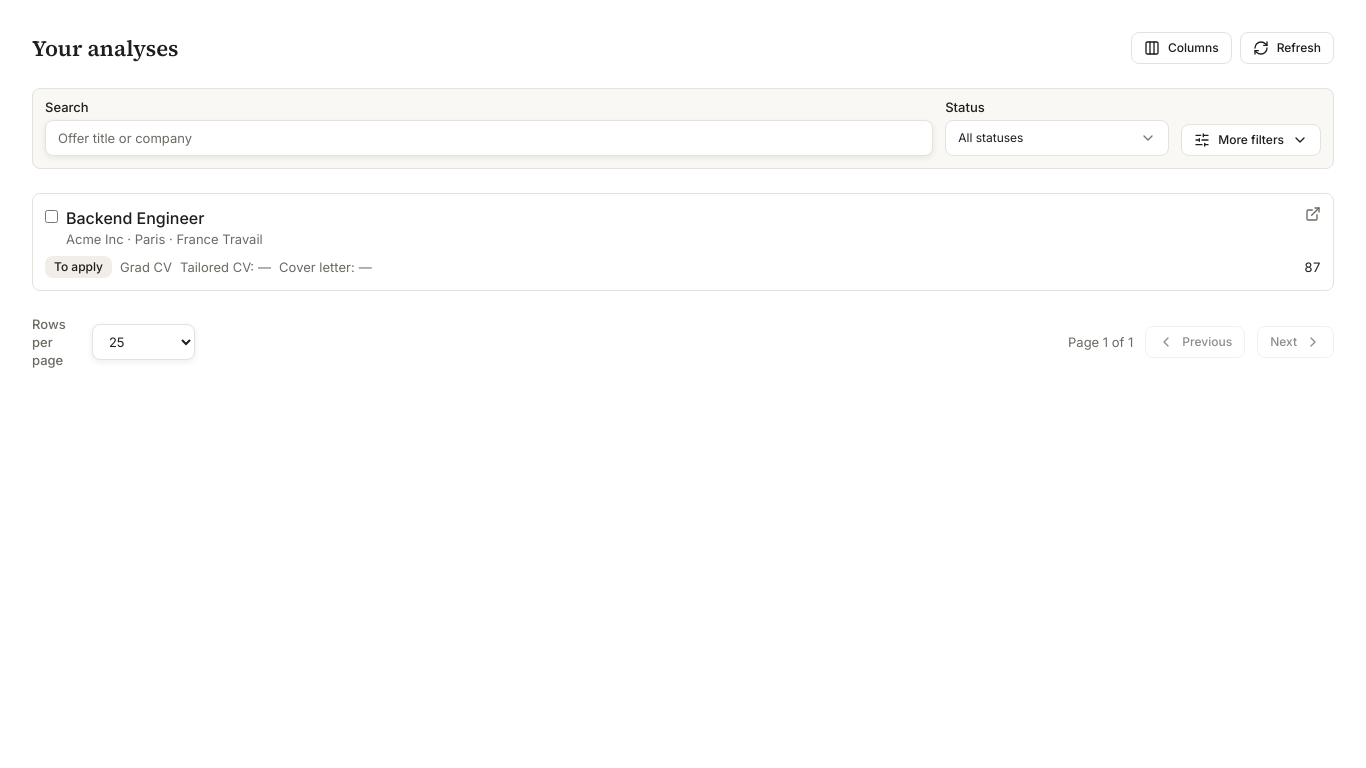
Test: AnalysesDashboardPage › replaces the table with a stacked card per Analysis below ~640px, keeping the same click/select/link behavior (issue #69)
Expected: the text "Acme Inc" is shown, x1=66 y1=231 x2=124 y2=247
Expected: the text "Paris" is shown, x1=135 y1=231 x2=165 y2=247
Same click behavior as a table row: opens the Quick view.
Click the text "Backend Engineer" at (135, 218), box x1=66 y1=208 x2=204 y2=228
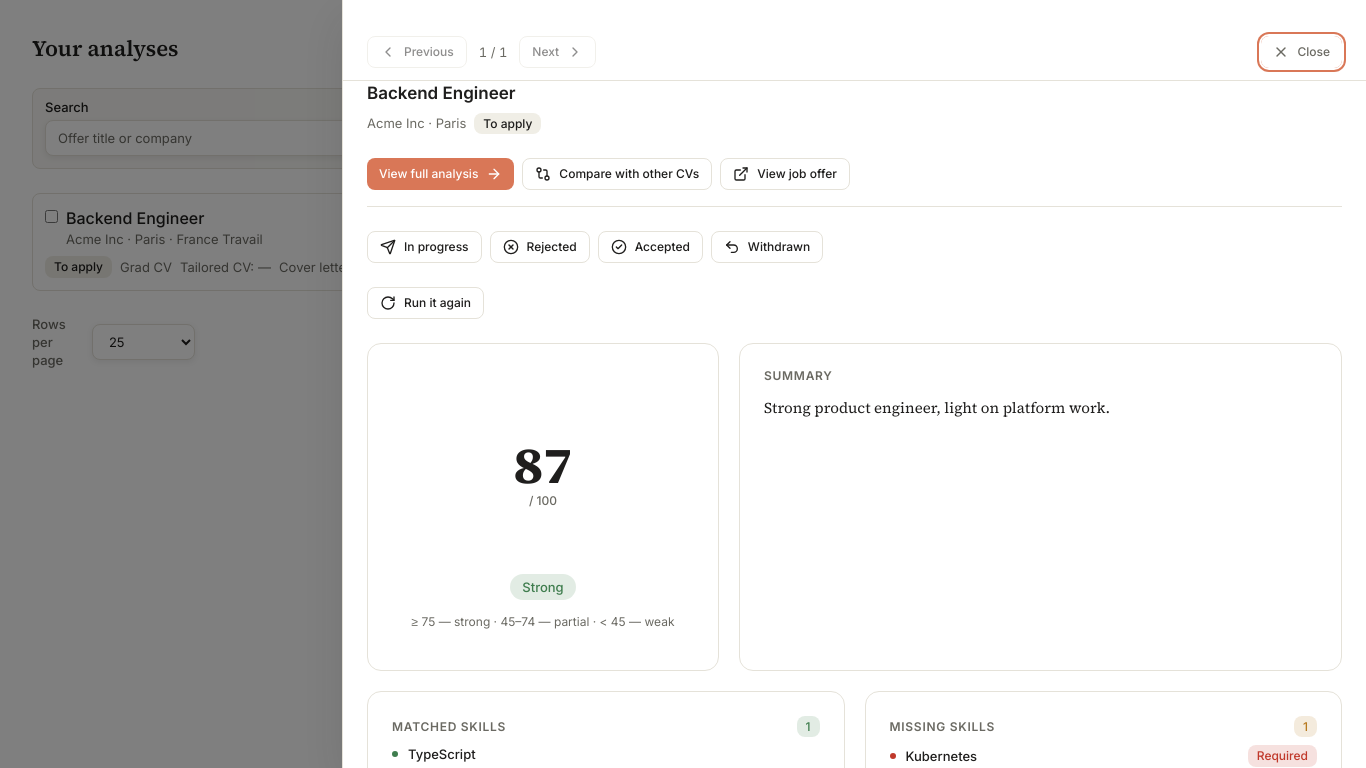
Now the dialog is shown
Press Escape
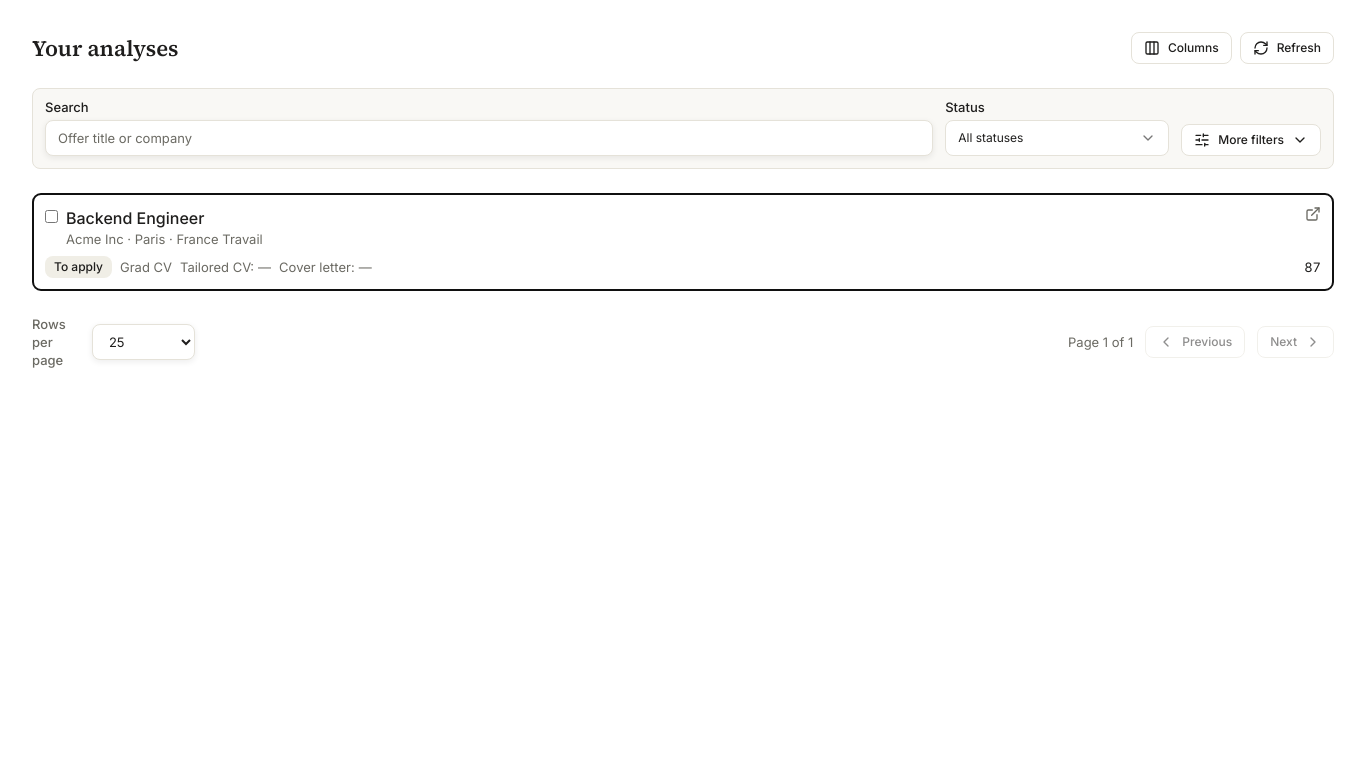
Now the dialog is gone
Same Lien behavior: opens the offer without the Quick view.
Click the link named "Open the job offer" at (1313, 214), box x1=1305 y1=206 x2=1321 y2=222
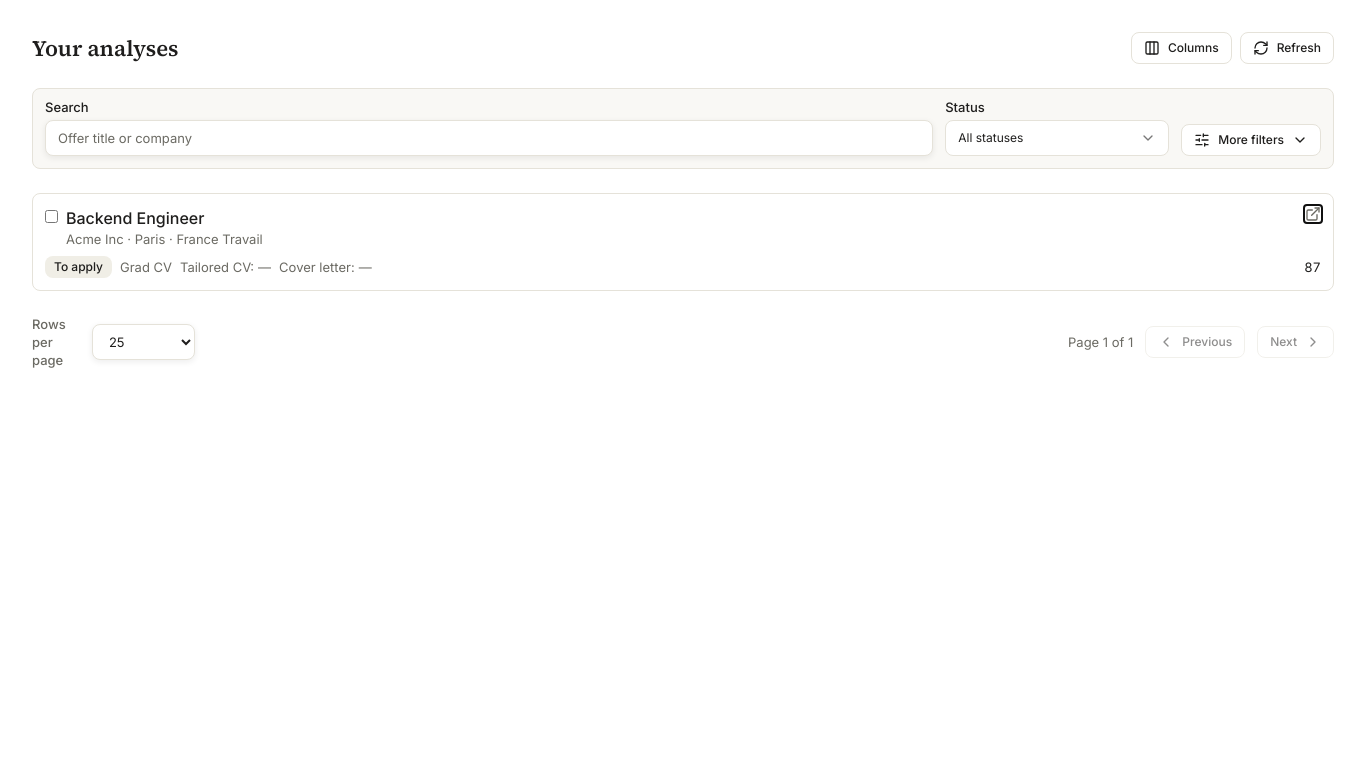
Same select behavior, feeding the same bulk-actions bar.
Click the checkbox named "Select Backend Engineer" at (52, 216), box x1=45 y1=210 x2=58 y2=223
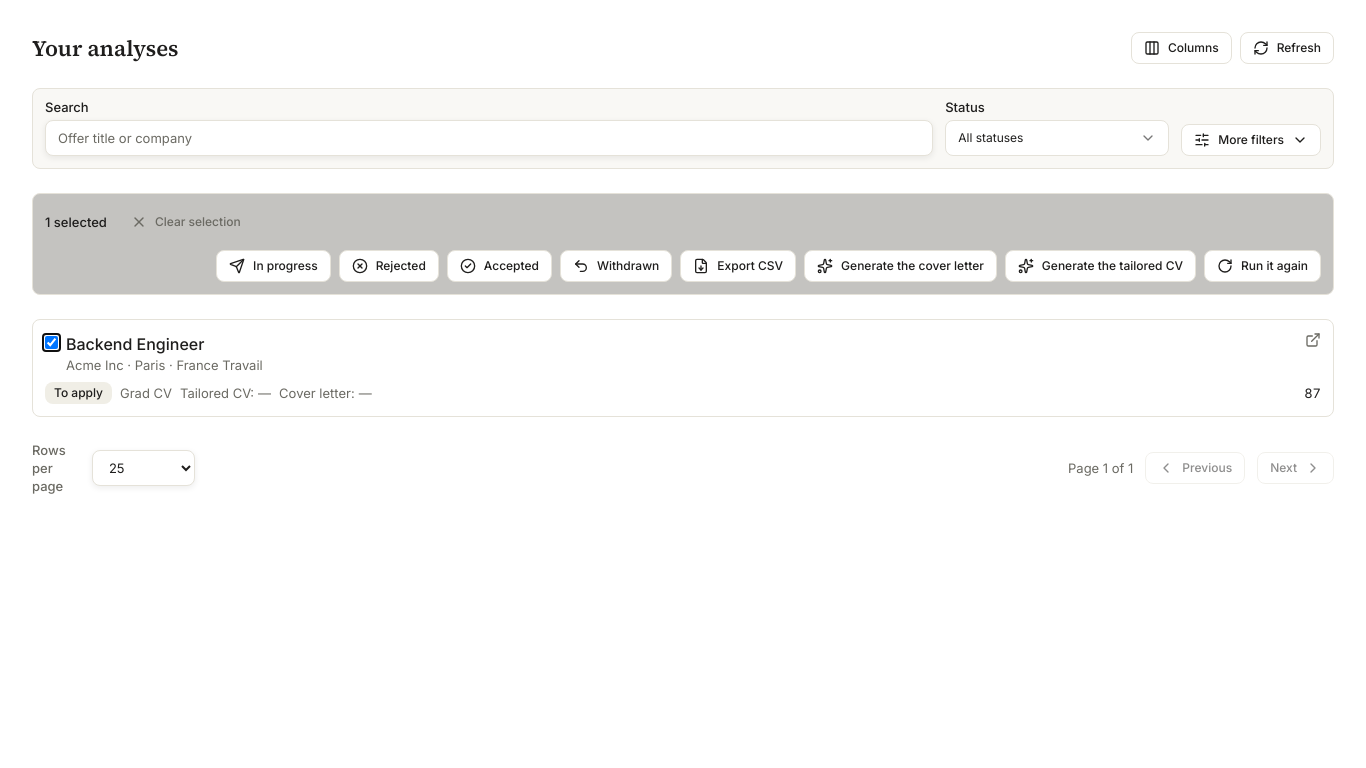
Now the text "1 selected" is shown, box x1=45 y1=213 x2=107 y2=231
